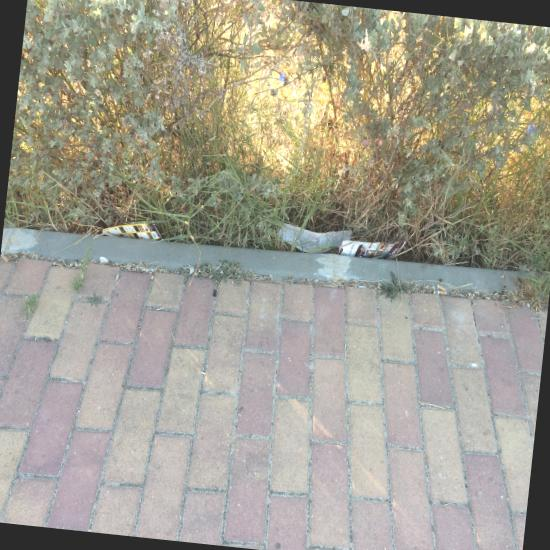Cigarette: (437, 284, 446, 291), (1, 255, 9, 261), (437, 291, 446, 294)
Magazine paper: (336, 240, 406, 260), (94, 224, 165, 241)
Normal paper: (278, 222, 352, 254)
